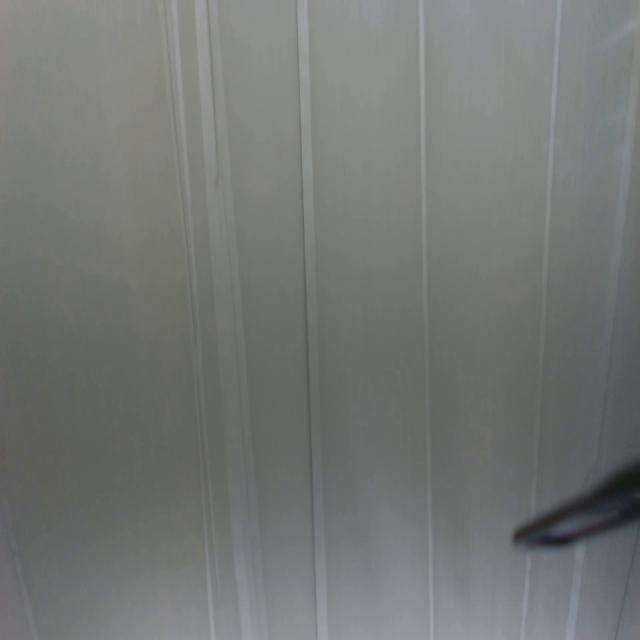crease: (204, 0, 268, 632), (163, 1, 218, 640), (590, 38, 640, 462), (294, 0, 322, 640), (532, 0, 563, 499), (416, 0, 434, 640), (612, 530, 640, 640), (517, 552, 532, 639)
